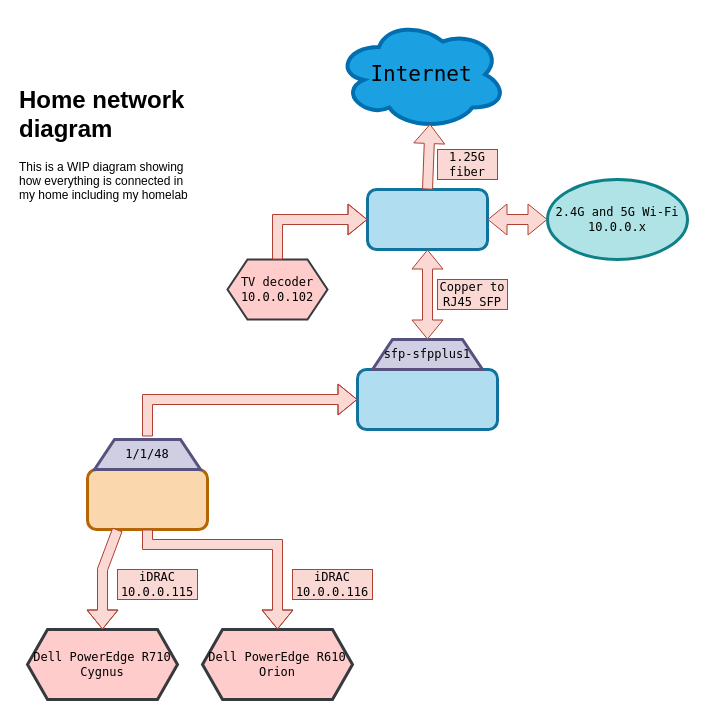
The diagram is 706 pixels wide and 718 high, and some of its shapes have lost their labels. The shapes that lost their labels are listed below. From the top down, each one's centre as x and y in pixels, then its label:
point 427,219: ISP Router 192.168.254.251
point 427,399: MikroTik CCR2004-1G-12S+2XS 192.168.88.1
point 147,499: Brocade FLS648-STK 10.0.0.20
